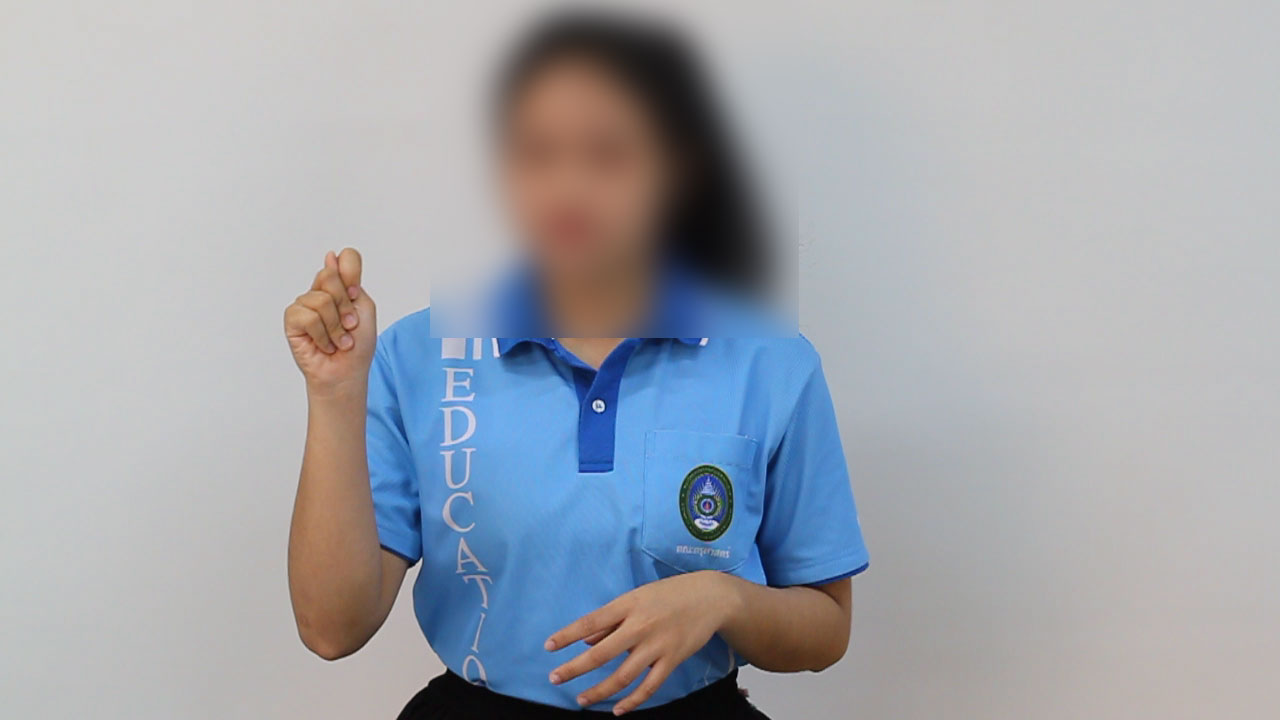tor: (269, 234, 416, 402)
